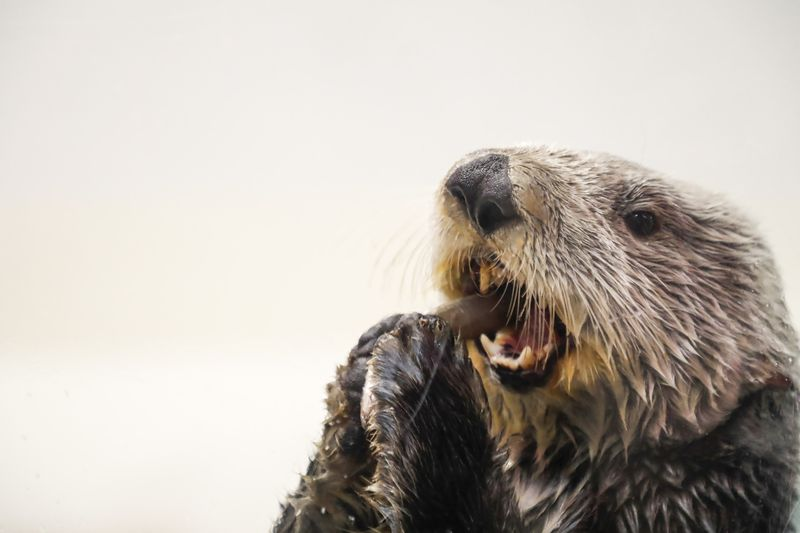otter: (377, 105, 761, 533)
